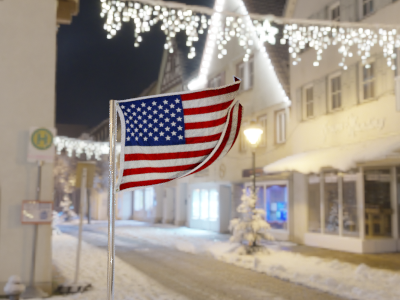America flag: (115, 76, 243, 193)
